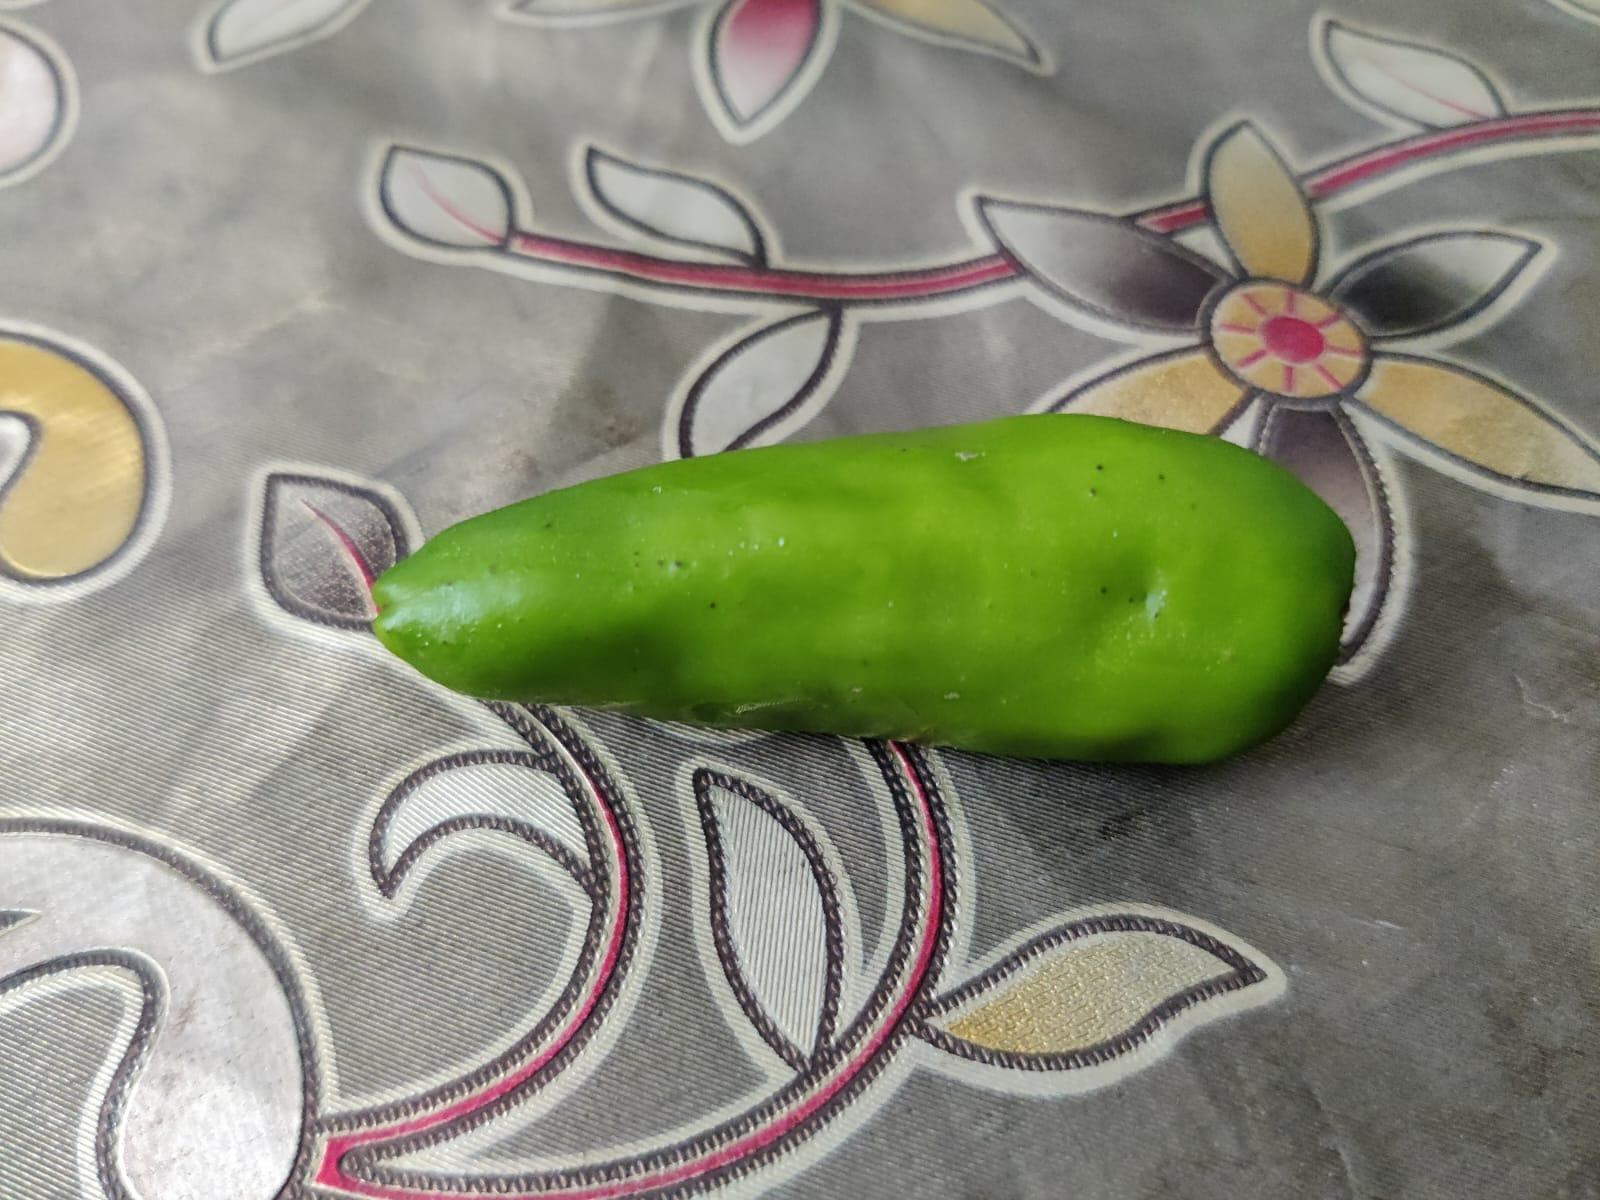non-mango: (360, 415, 1373, 776)
